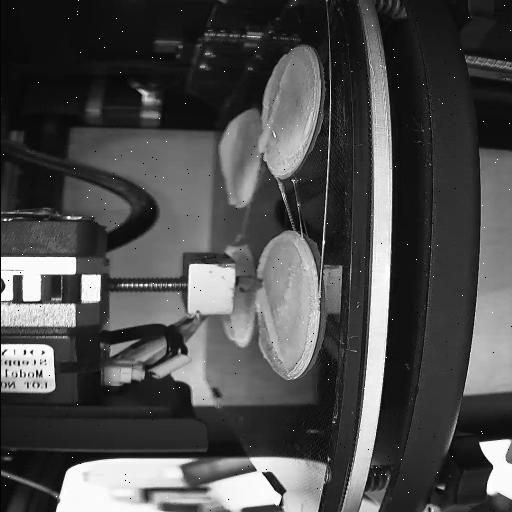over_extrusion: (255, 64, 289, 152), (214, 113, 244, 207), (254, 232, 310, 278), (254, 291, 284, 361), (220, 315, 236, 341), (222, 242, 242, 254)
